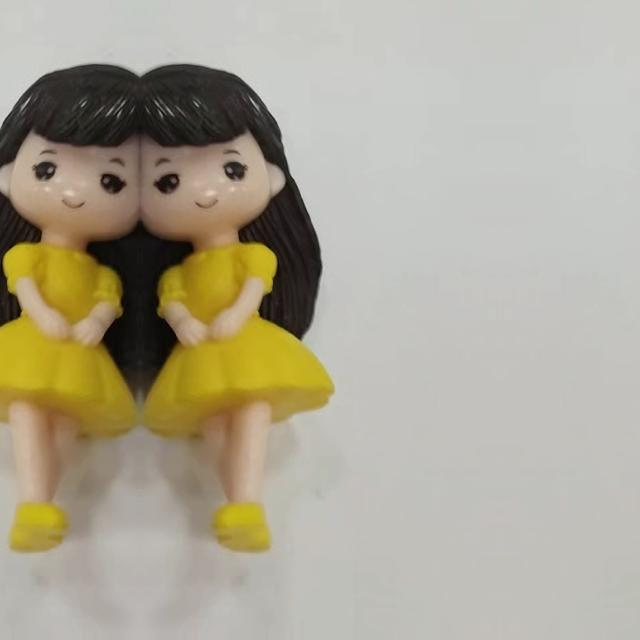woman dress: (144, 244, 336, 428), (0, 244, 136, 428)
